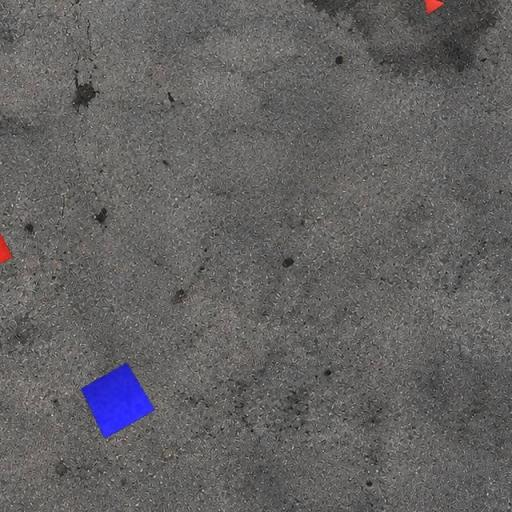BLUE_SQUARE: (81, 362, 156, 439)
RED_SQUARE: (0, 232, 14, 270)
